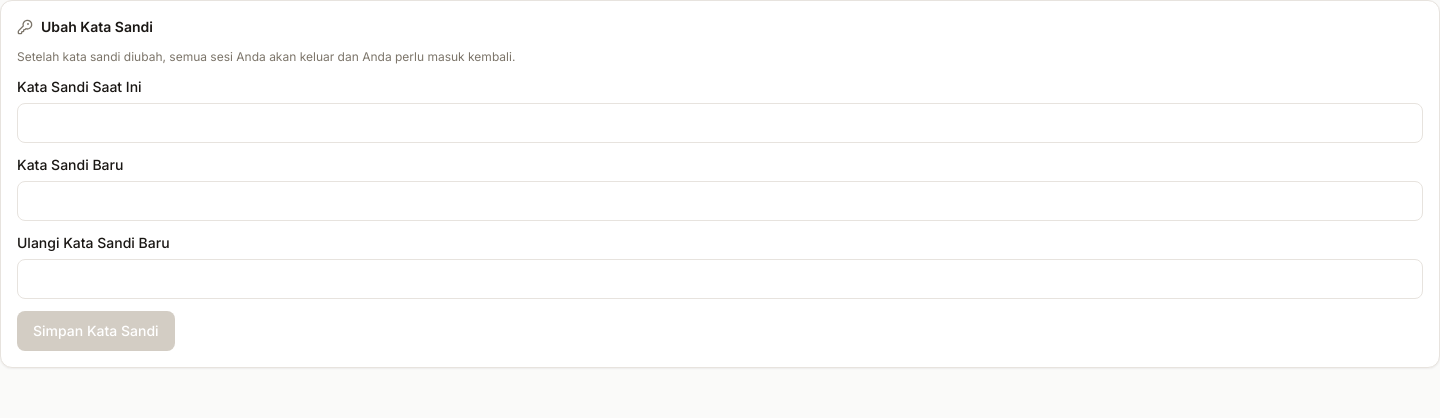
ChangePasswordCard › names a wrong CURRENT password specifically, instead of a generic failure
This screenshot has width=1440, height=418.
In the password field labelled "Kata Sandi Saat Ini": (720, 123) [17, 103, 1423, 143], type "wrong-password"
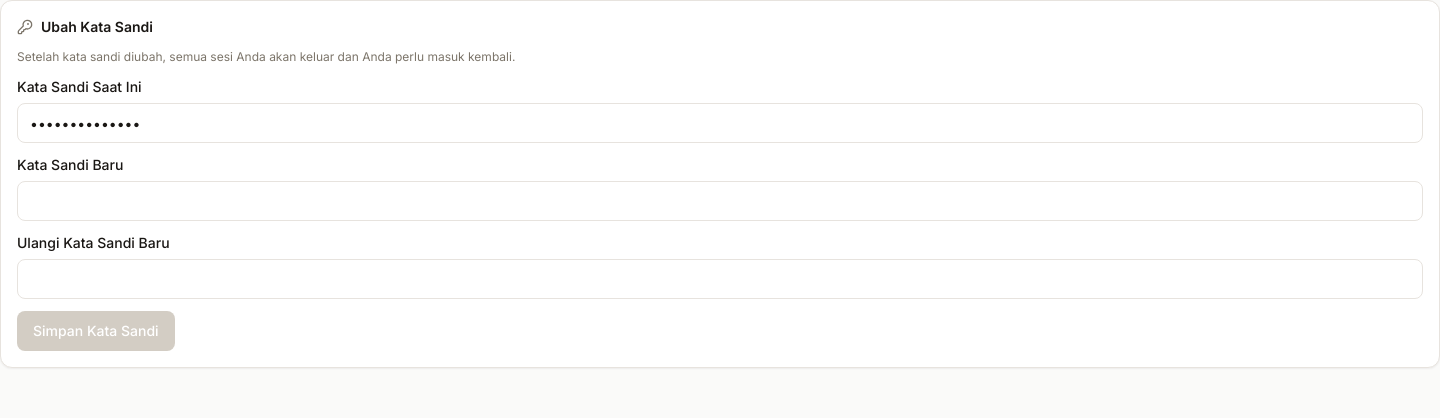
In the password field labelled "Kata Sandi Baru": (720, 201) [17, 181, 1423, 221], type "a-long-enough-one"
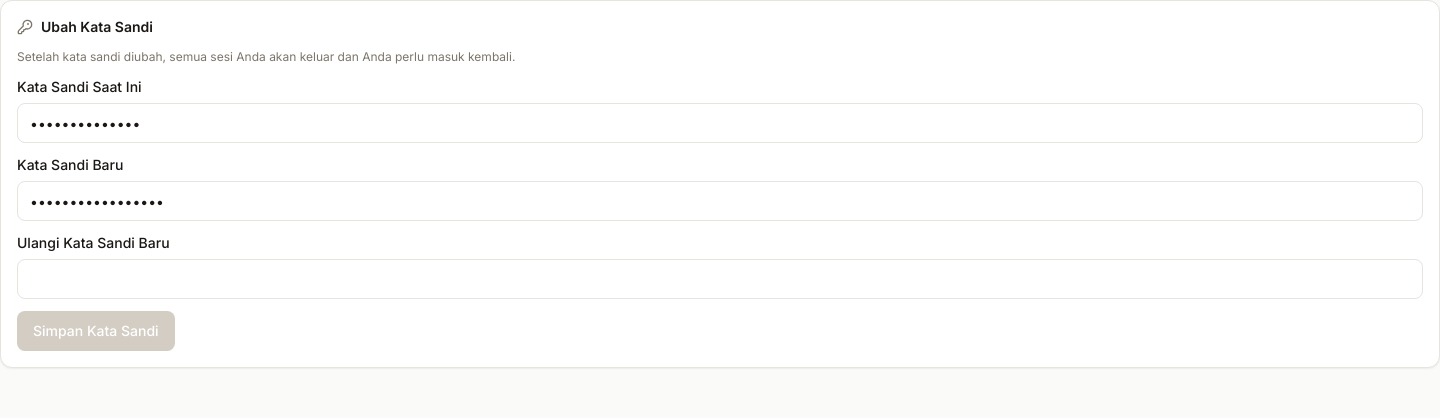
In the password field labelled "Ulangi Kata Sandi Baru": (720, 279) [17, 259, 1423, 299], type "a-long-enough-one"
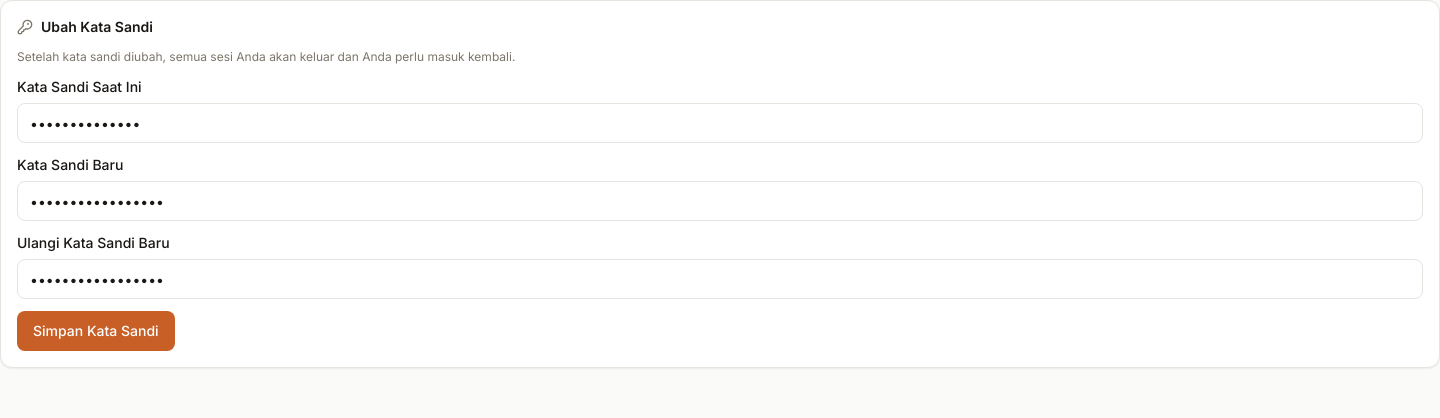
Click the button "Simpan Kata Sandi": (96, 331) [17, 311, 175, 351]
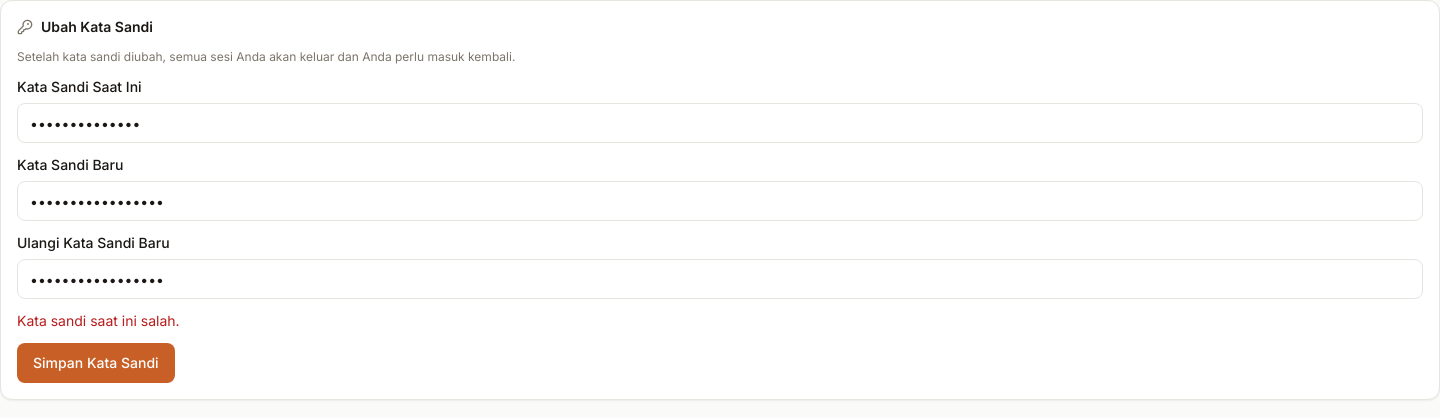
Expected: the text "Kata sandi saat ini salah." is shown, [17, 312, 180, 329]
